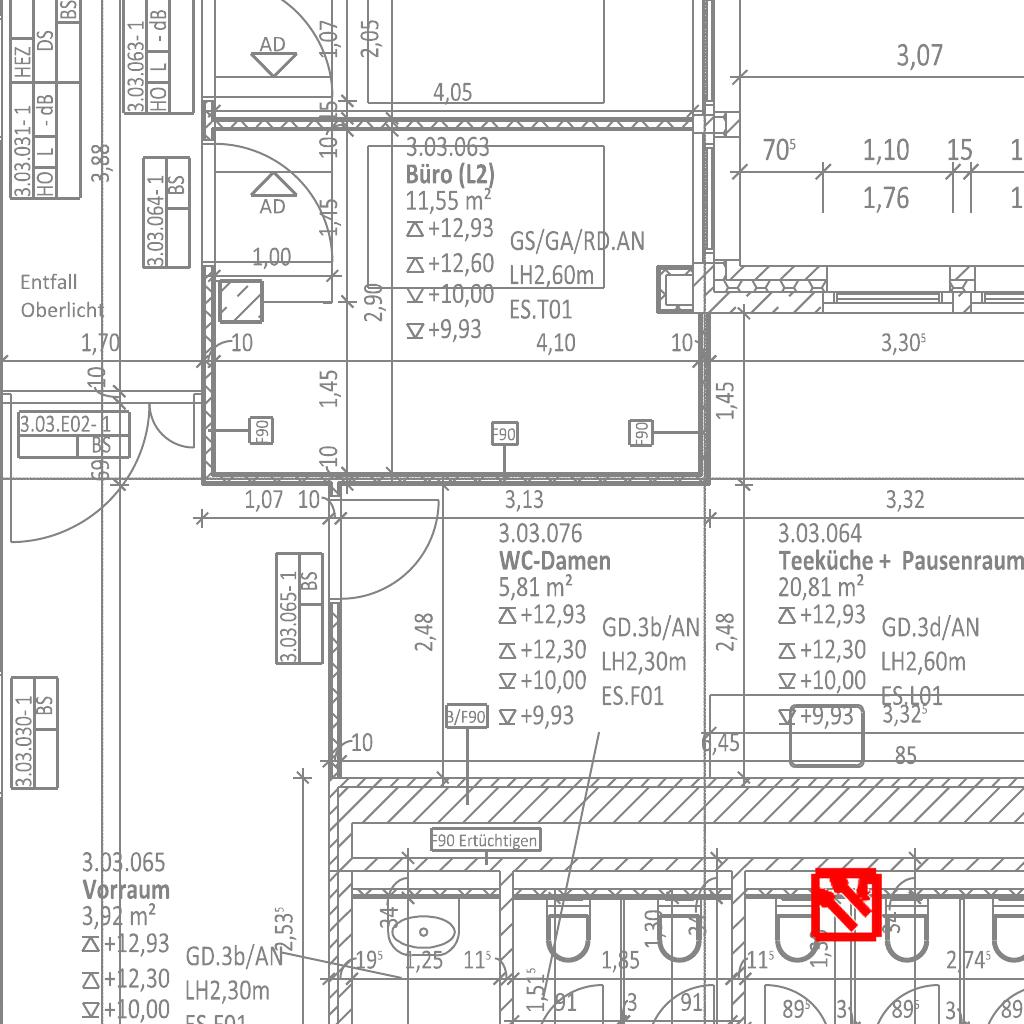OT_Multisensormelder_(Kombination_RMO_WMD): (790, 846, 903, 959)
